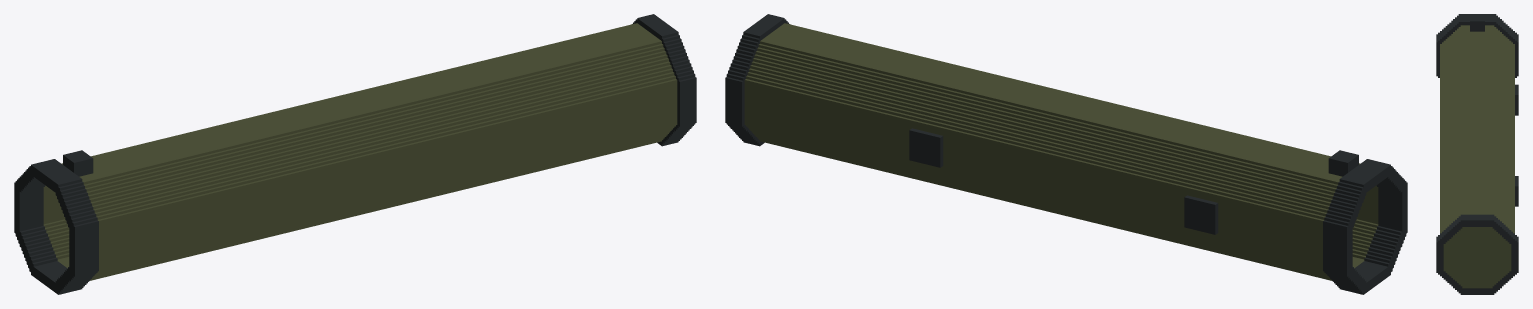
File: nylon_quiver.glb
3 views of the same model, side by side, from view 1: azimuth 30°, elevation 25°; view 2: azimuth 150°, elevation 25°; view 3: azimuth 270°, elevation 25° (orthographic). The views are drawn at different scales.
Parts seen in each view (by area): view 1: nylon_quiver:compound; view 2: nylon_quiver:compound; view 3: nylon_quiver:compound.
Boxes of the visible parts, x1=… form: nylon_quiver:compound: x1=14, y1=14, x2=696, y2=294; nylon_quiver:compound: x1=725, y1=14, x2=1407, y2=294; nylon_quiver:compound: x1=1436, y1=14, x2=1518, y2=294.
Bounding box in the file's own units: 0.52 × 0.096 × 0.088.
